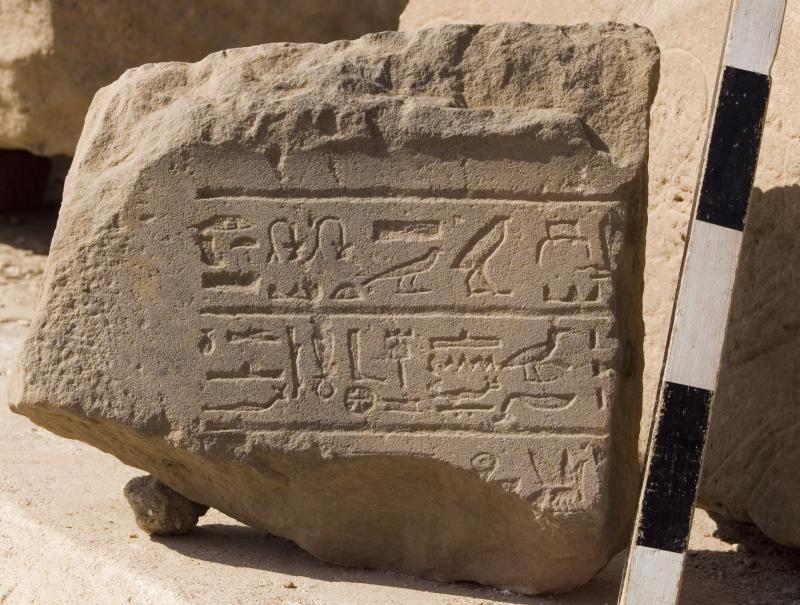D4: (181, 210, 261, 238)
G43: (451, 203, 527, 303)
N35: (418, 346, 504, 381)
